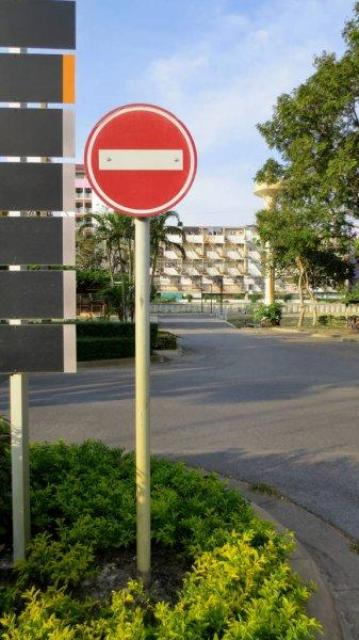B2: (82, 101, 198, 217)
